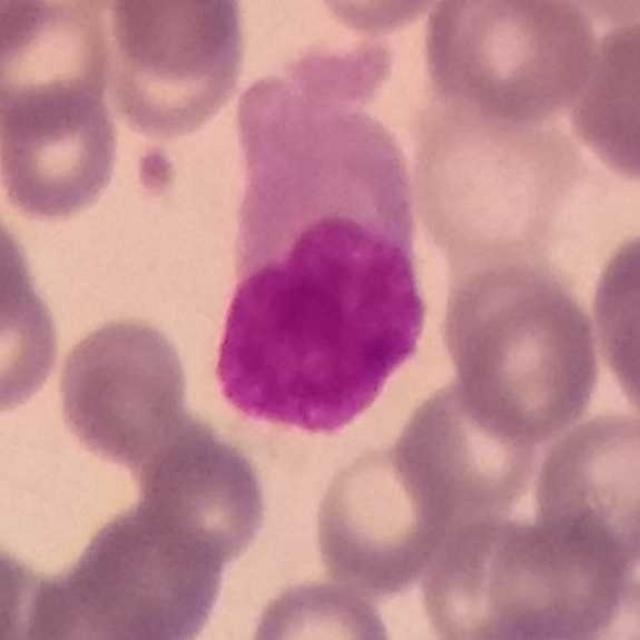Monocyte: (206, 41, 436, 442)
Platelets: (130, 142, 180, 205)
RBC: (438, 260, 606, 448), (403, 88, 583, 258), (308, 436, 463, 594), (416, 0, 602, 129), (59, 501, 229, 640), (51, 310, 193, 468), (389, 375, 542, 520), (132, 425, 272, 576), (100, 0, 252, 139), (333, 483, 486, 620), (480, 510, 632, 640), (0, 82, 124, 225), (527, 411, 640, 567), (0, 0, 119, 135), (18, 556, 190, 639), (563, 9, 639, 191), (585, 220, 640, 430), (0, 255, 66, 422), (244, 574, 397, 640), (0, 538, 79, 640), (295, 0, 466, 37), (0, 192, 38, 338), (0, 0, 50, 65)
